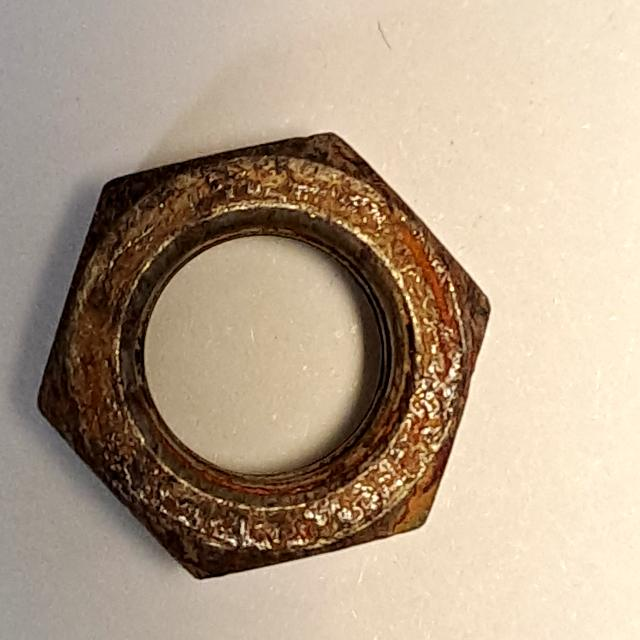Rust: (19, 111, 503, 593)
